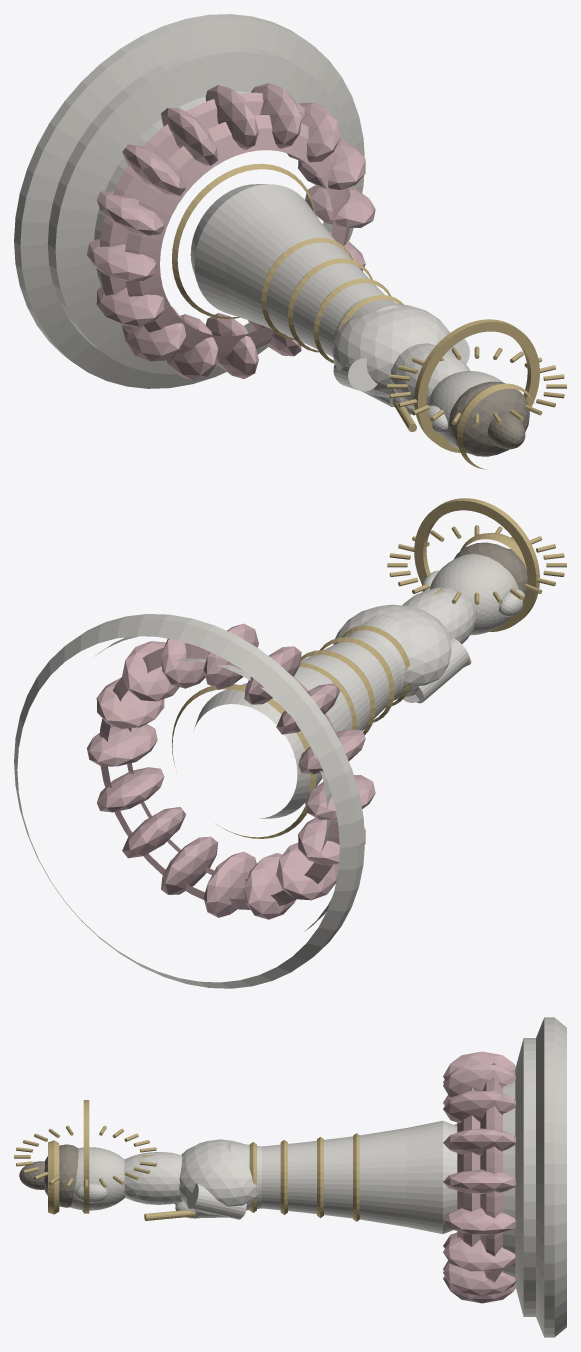
Rendered from quan_am_linh_ung_bai_but.glb.
The picture shows the model from 3 angles, top to bottom: view 1: azimuth 30°, elevation 25°; view 2: azimuth 150°, elevation 25°; view 3: azimuth 270°, elevation 25°; orthographic projection. The views are drawn at different scales.
Visible parts, largest first — view 1: part_0_Tiered stone pedestal, part_19_Flowing Avalokitesvara robe, part_2_Upper lotus ring, part_20_Shoulders, part_1_Lotus base, part_31_Circular halo, part_25_Hair cap, part_21_Neck and upper torso, part_7_Lotus petal, part_12_Lotus petal, part_11_Lotus petal, part_6_Lotus petal (+18 smaller); view 2: part_0_Tiered stone pedestal, part_19_Flowing Avalokitesvara robe, part_20_Shoulders, part_22_Serene face and head, part_31_Circular halo, part_1_Lotus base, part_3_Lotus petal, part_21_Neck and upper torso, part_15_Lotus petal, part_16_Lotus petal, part_13_Lotus petal, part_5_Lotus petal (+17 smaller); view 3: part_0_Tiered stone pedestal, part_19_Flowing Avalokitesvara robe, part_20_Shoulders, part_21_Neck and upper torso, part_1_Lotus base, part_22_Serene face and head, part_18_Lotus petal, part_6_Lotus petal, part_7_Lotus petal, part_3_Lotus petal, part_5_Lotus petal, part_17_Lotus petal (+13 smaller).
Part boxes in pixels (<box>): part_0_Tiered stone pedestal: <box>14,14,364,388</box>; part_19_Flowing Avalokitesvara robe: <box>190,184,400,356</box>; part_2_Upper lotus ring: <box>125,115,350,358</box>; part_20_Shoulders: <box>332,304,453,398</box>; part_1_Lotus base: <box>99,92,332,333</box>; part_31_Circular halo: <box>414,319,539,453</box>; part_25_Hair cap: <box>448,381,529,456</box>; part_21_Neck and upper torso: <box>390,343,470,409</box>; part_7_Lotus petal: <box>205,85,258,149</box>; part_12_Lotus petal: <box>96,285,164,326</box>; part_11_Lotus petal: <box>87,239,156,280</box>; part_6_Lotus petal: <box>251,83,301,148</box>; part_0_Tiered stone pedestal: <box>14,614,364,988</box>; part_19_Flowing Avalokitesvara robe: <box>194,615,404,818</box>; part_20_Shoulders: <box>333,604,451,696</box>; part_22_Serene face and head: <box>429,554,518,635</box>; part_31_Circular halo: <box>414,498,539,631</box>; part_1_Lotus base: <box>99,643,339,909</box>; part_3_Lotus petal: <box>87,724,157,766</box>; part_21_Neck and upper torso: <box>402,587,476,643</box>; part_15_Lotus petal: <box>203,851,256,917</box>; part_16_Lotus petal: <box>161,836,218,894</box>; part_13_Lotus petal: <box>276,843,338,900</box>; part_5_Lotus petal: <box>122,641,179,701</box>; part_0_Tiered stone pedestal: <box>503,1017,566,1337</box>; part_19_Flowing Avalokitesvara robe: <box>227,1120,457,1234</box>; part_20_Shoulders: <box>179,1139,258,1215</box>; part_21_Neck and upper torso: <box>124,1152,182,1204</box>; part_1_Lotus base: <box>480,1063,502,1282</box>; part_22_Serene face and head: <box>70,1147,124,1210</box>; part_18_Lotus petal: <box>443,1237,515,1271</box>; part_6_Lotus petal: <box>443,1091,515,1123</box>; part_7_Lotus petal: <box>443,1063,515,1097</box>; part_3_Lotus petal: <box>443,1207,515,1235</box>; part_5_Lotus petal: <box>443,1128,515,1155</box>; part_17_Lotus petal: <box>443,1262,515,1295</box>.
Bounding box in the file's own units: 3.1 × 3.1 × 5.35.
